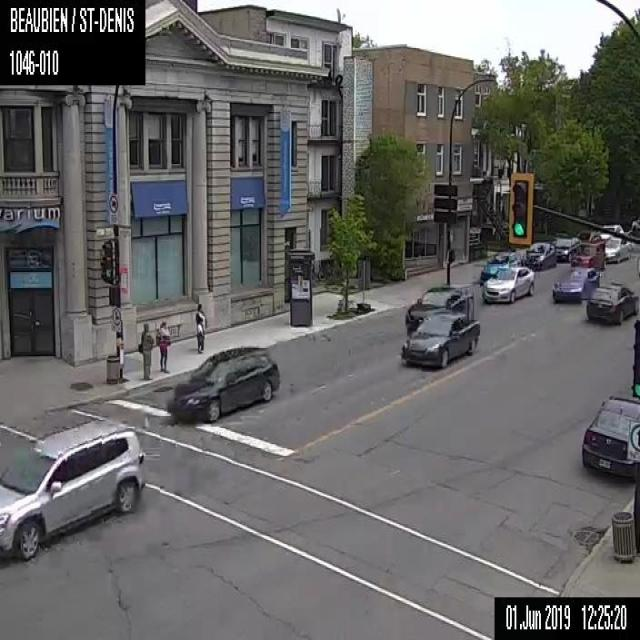pedestrian: (138, 322, 152, 379), (156, 321, 170, 372), (194, 303, 206, 351)
vehicle: (0, 417, 145, 559), (167, 345, 279, 421), (581, 394, 639, 478), (400, 310, 480, 368), (405, 285, 472, 335), (586, 281, 638, 324), (482, 265, 534, 302), (552, 266, 598, 303), (479, 247, 521, 284), (570, 242, 605, 270), (522, 241, 556, 269), (551, 236, 580, 262), (602, 236, 630, 261), (597, 224, 623, 238), (576, 229, 598, 242)
